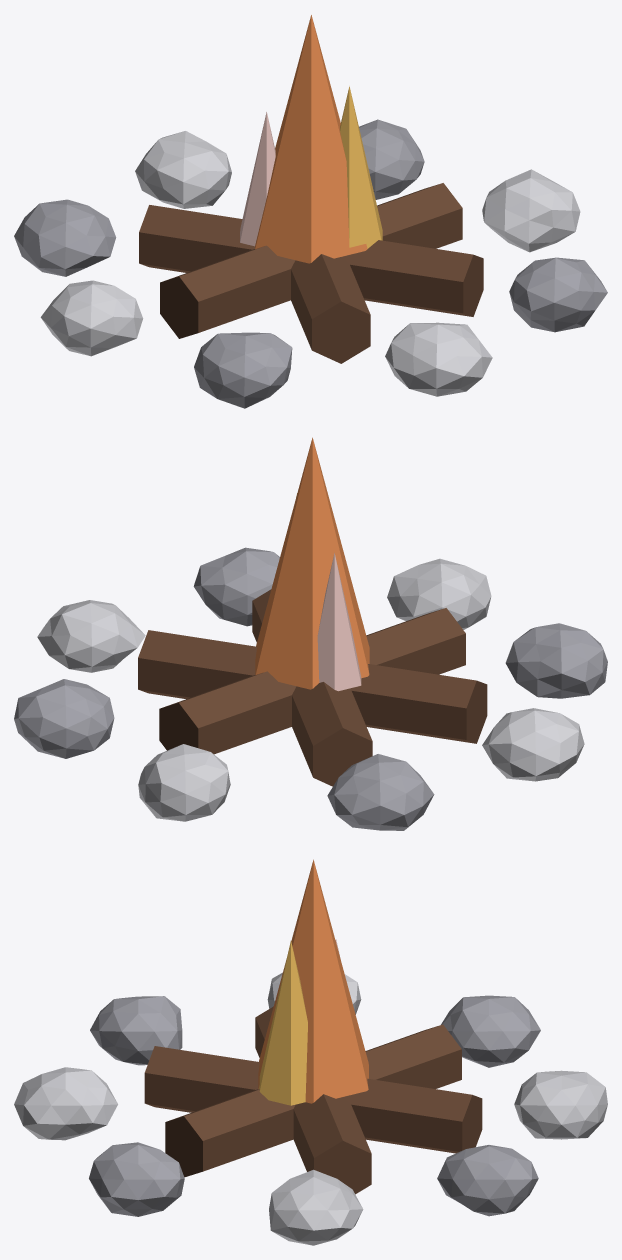
The model's file is deco_campfire.obj.
3 renders of one model, top to bottom at view 1: azimuth 30°, elevation 25°; view 2: azimuth 150°, elevation 25°; view 3: azimuth 270°, elevation 25°, orthographic. The views are drawn at different scales.
Parts seen in each view (by area): view 1: deco_campfire; view 2: deco_campfire; view 3: deco_campfire.
Boxes of the visible parts, box(x1,y1,x2,y2) form: deco_campfire: box(14, 15, 607, 408); deco_campfire: box(14, 437, 607, 830); deco_campfire: box(14, 859, 607, 1245).
Size of the model in its own units: 0.079 by 0.0409 by 0.079.
Materials: 1 (1 with a texture image).
